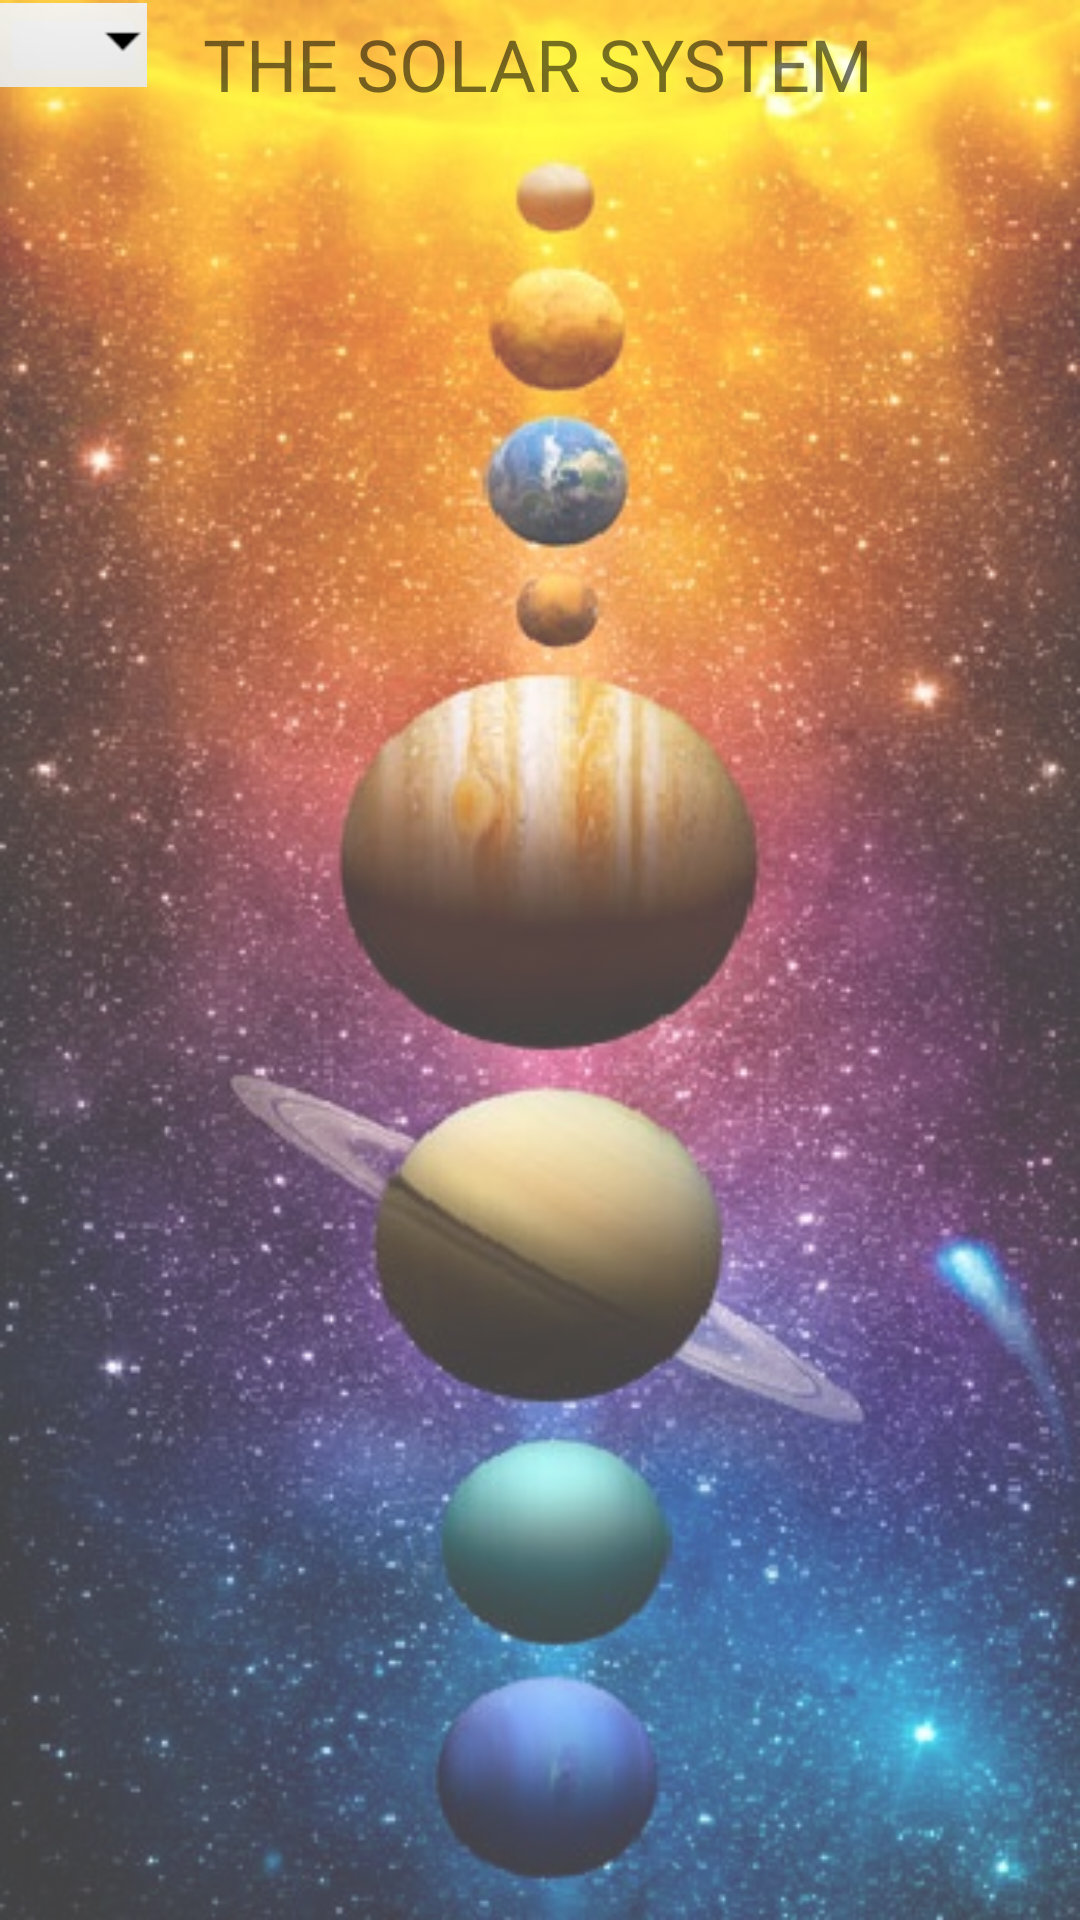

Screen size 1080×1920. Icon name, then its box in pixels as (x1, y1, x2, y2):
dropdown: (0, 3, 147, 87)
